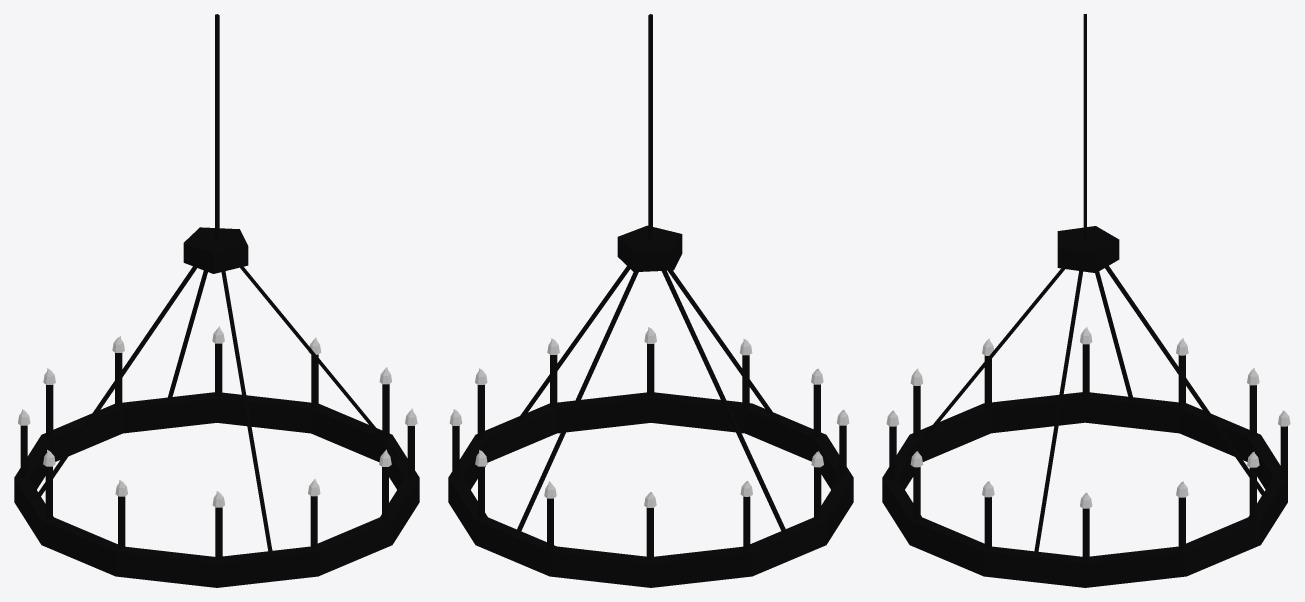
File: Chandelier_On.glb
3 views of the same model, side by side, from view 1: azimuth 30°, elevation 25°; view 2: azimuth 150°, elevation 25°; view 3: azimuth 270°, elevation 25° (orthographic).
Visible parts, largest first — view 1: chandelier; view 2: chandelier; view 3: chandelier.
Boxes of the visible parts, bbox=[...] form: chandelier: bbox=[14, 14, 419, 587]; chandelier: bbox=[448, 14, 853, 587]; chandelier: bbox=[882, 14, 1290, 587].
Bounding box in the file's own units: 1.4 × 1.86 × 1.41.
1 material, 1 textured.
